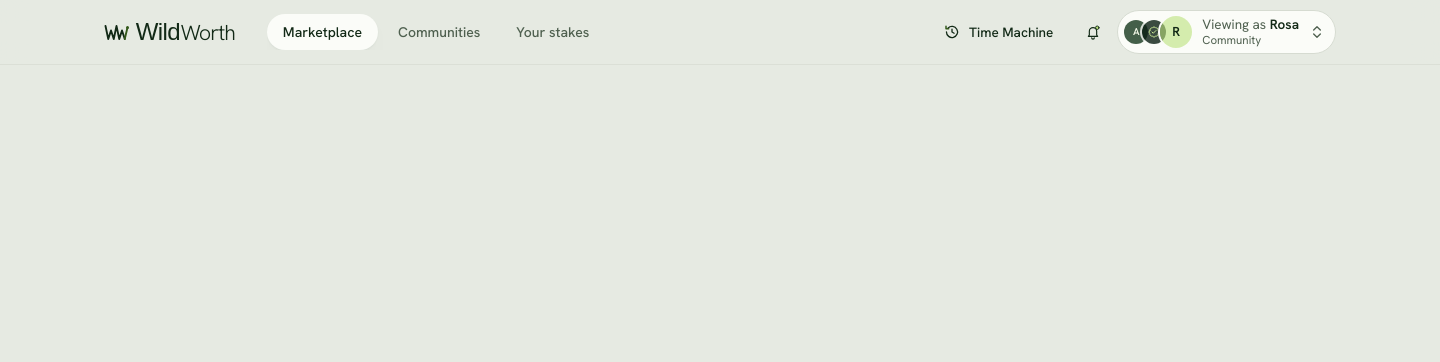
Test: the sandbox header › starts the sandbox over or leaves it from the same menu
Press the mouse on the button with aria-label "Viewing as Rosa, Community": (1227, 32) left=1117, top=10, right=1336, bottom=54
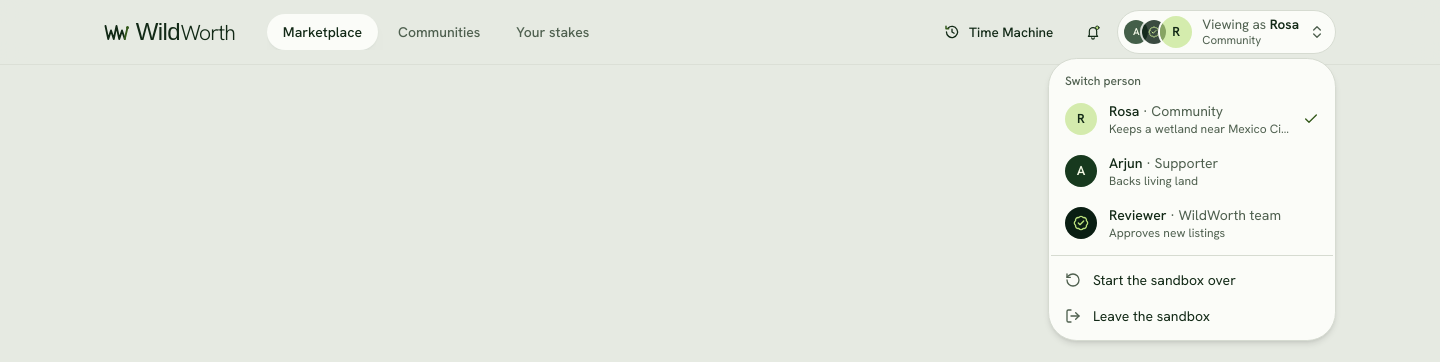
expect the menu item "Start the sandbox over" is shown: met, box left=1065, top=271, right=1236, bottom=289
